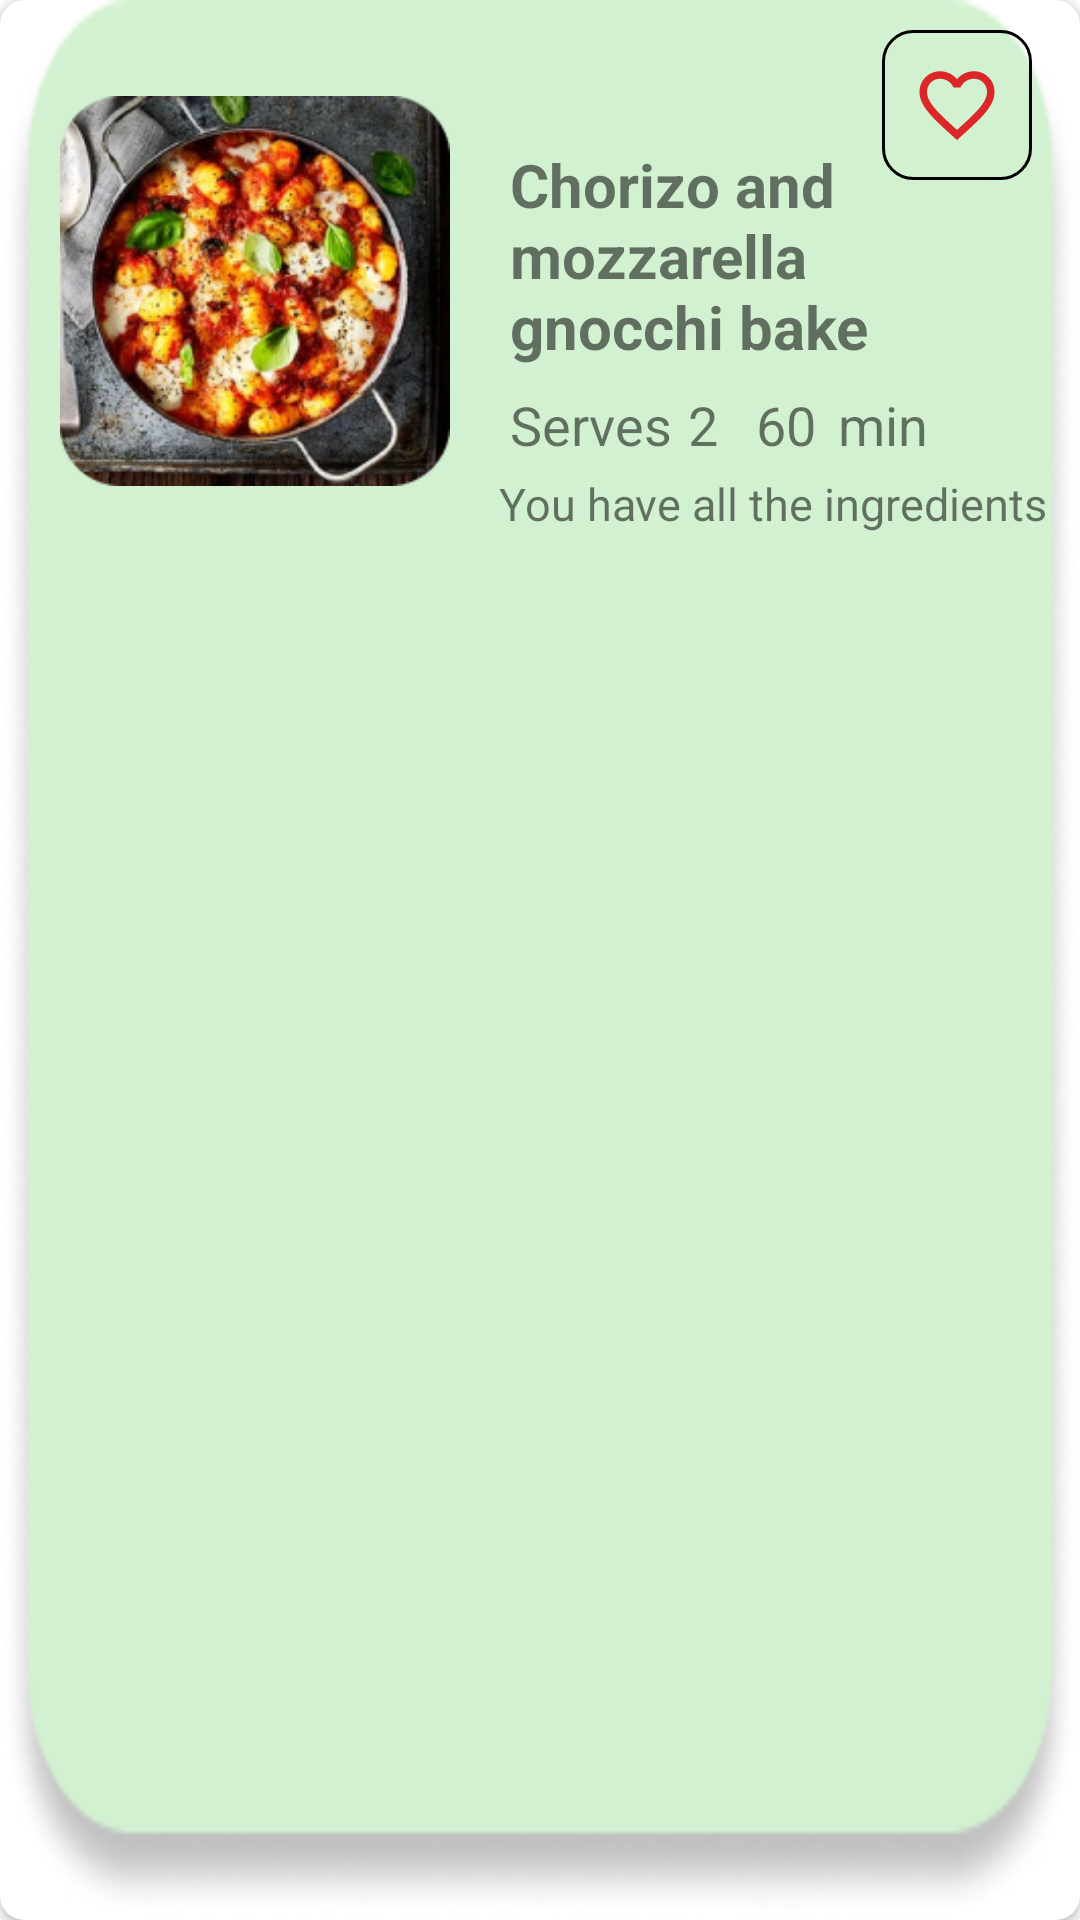

Where to tap for icons on this 1080*1920 app screen, as (x=x, y=y):
favorites: (x=957, y=105)
